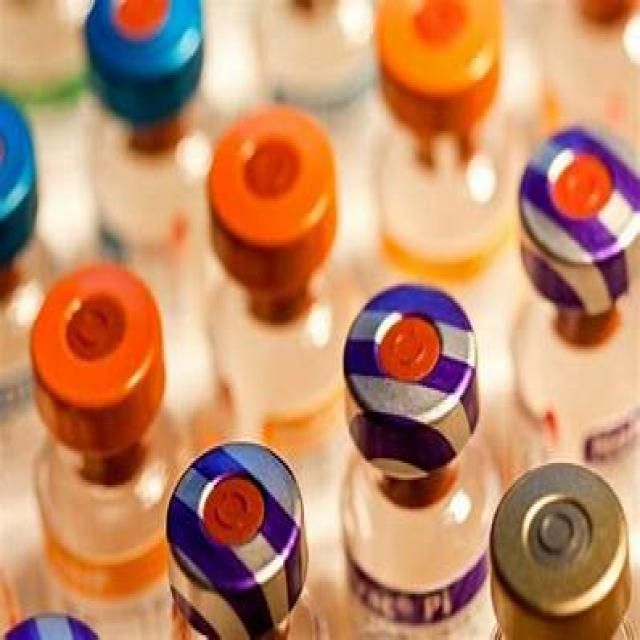vial: (155, 443, 337, 613), (32, 255, 190, 419), (347, 287, 478, 452), (205, 119, 338, 272), (498, 456, 628, 612), (530, 144, 635, 294), (374, 0, 498, 92), (83, 0, 205, 81), (0, 83, 37, 284), (6, 609, 103, 640), (565, 0, 640, 19), (283, 0, 327, 3)
